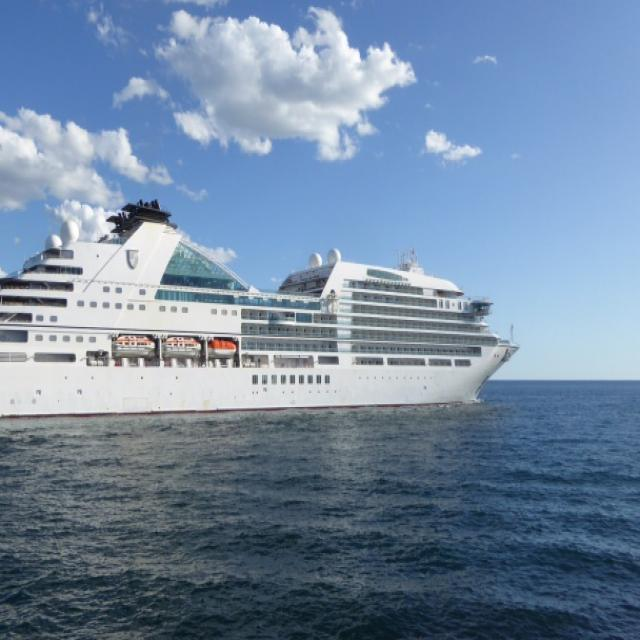cruises: (1, 198, 524, 429)
